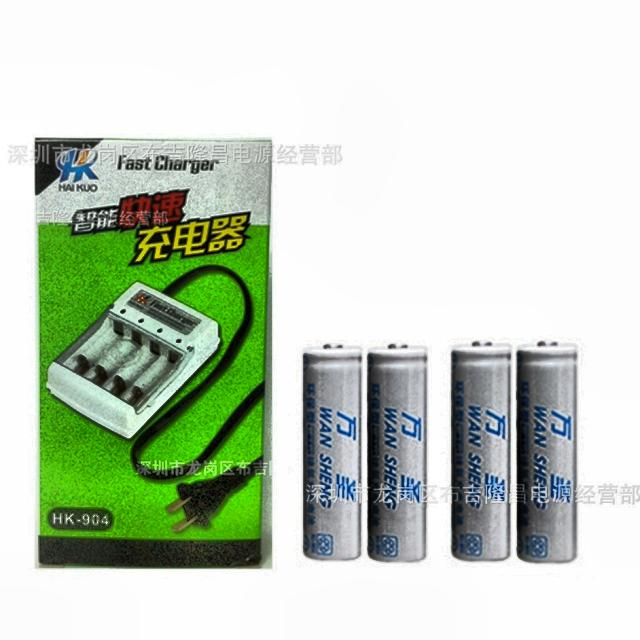Non-Valuable Waste - Batteries: (517, 343, 577, 562), (303, 345, 362, 560), (452, 342, 510, 560), (369, 346, 427, 562)
